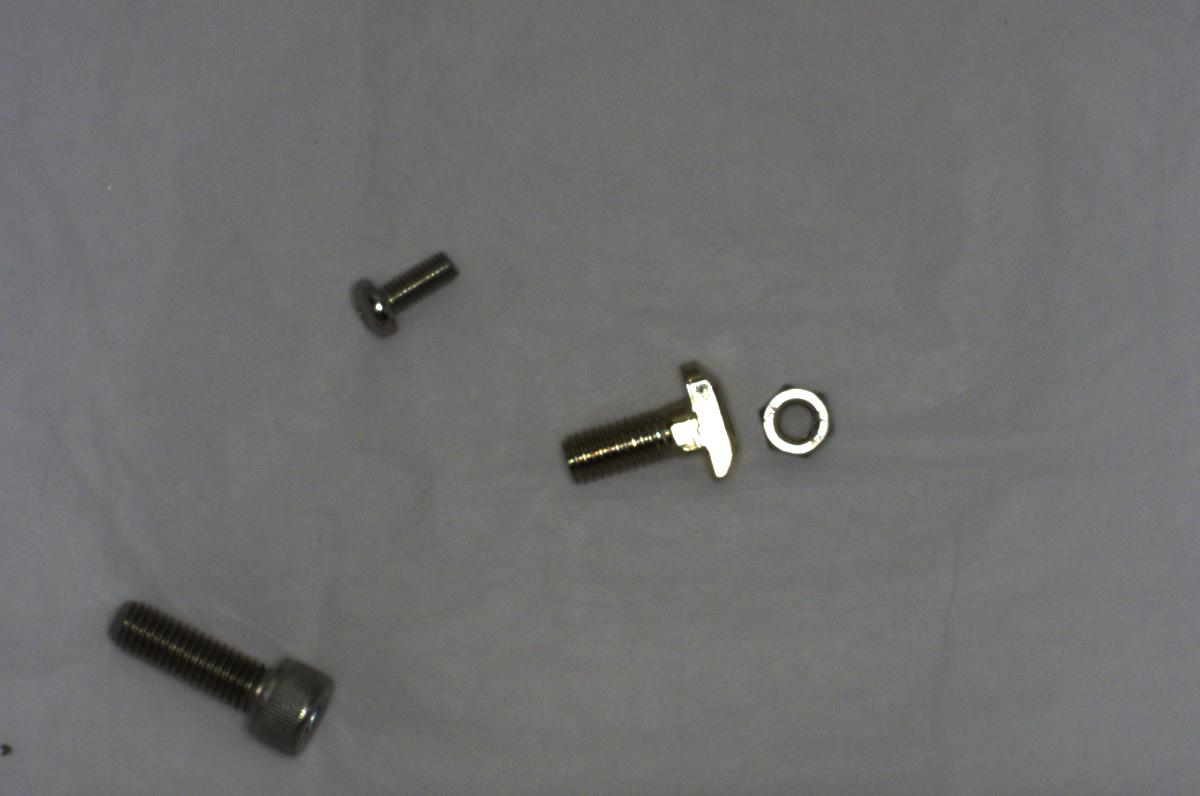Hexagon nut: (752, 375, 833, 458)
Hexagon screw: (93, 594, 353, 762)
Round head screw: (338, 240, 470, 340)
T-shaped screw: (560, 358, 745, 492)
